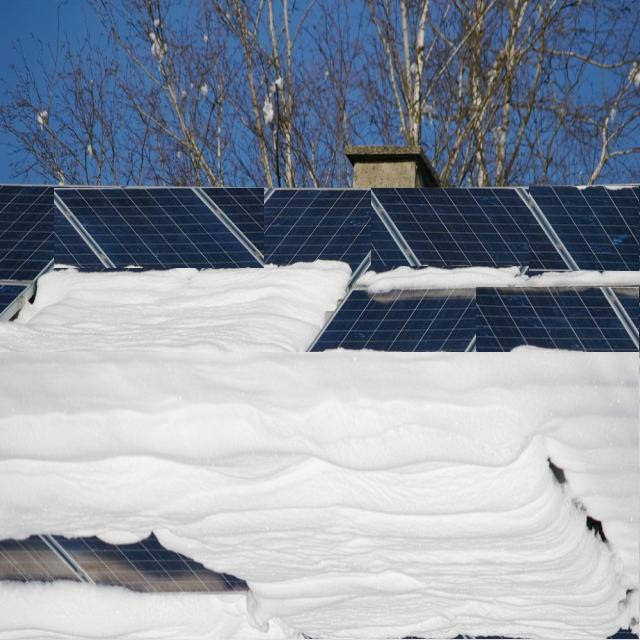Snow: (0, 352, 639, 639), (1, 269, 340, 400)
